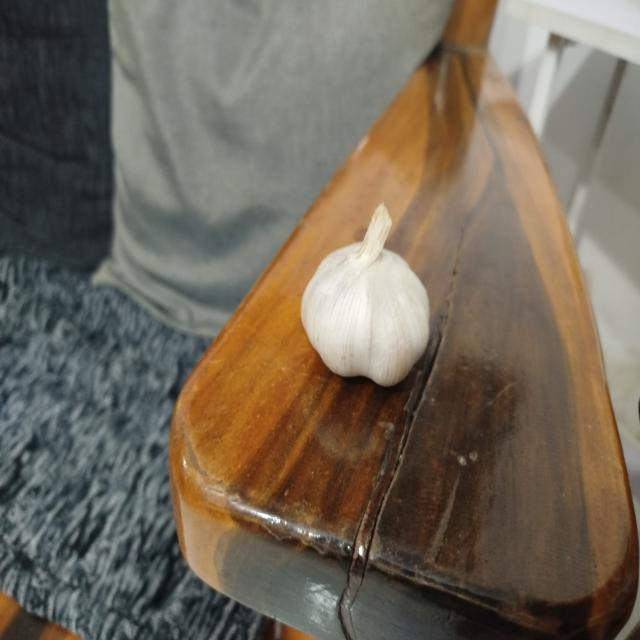garlic: (300, 202, 430, 388)
